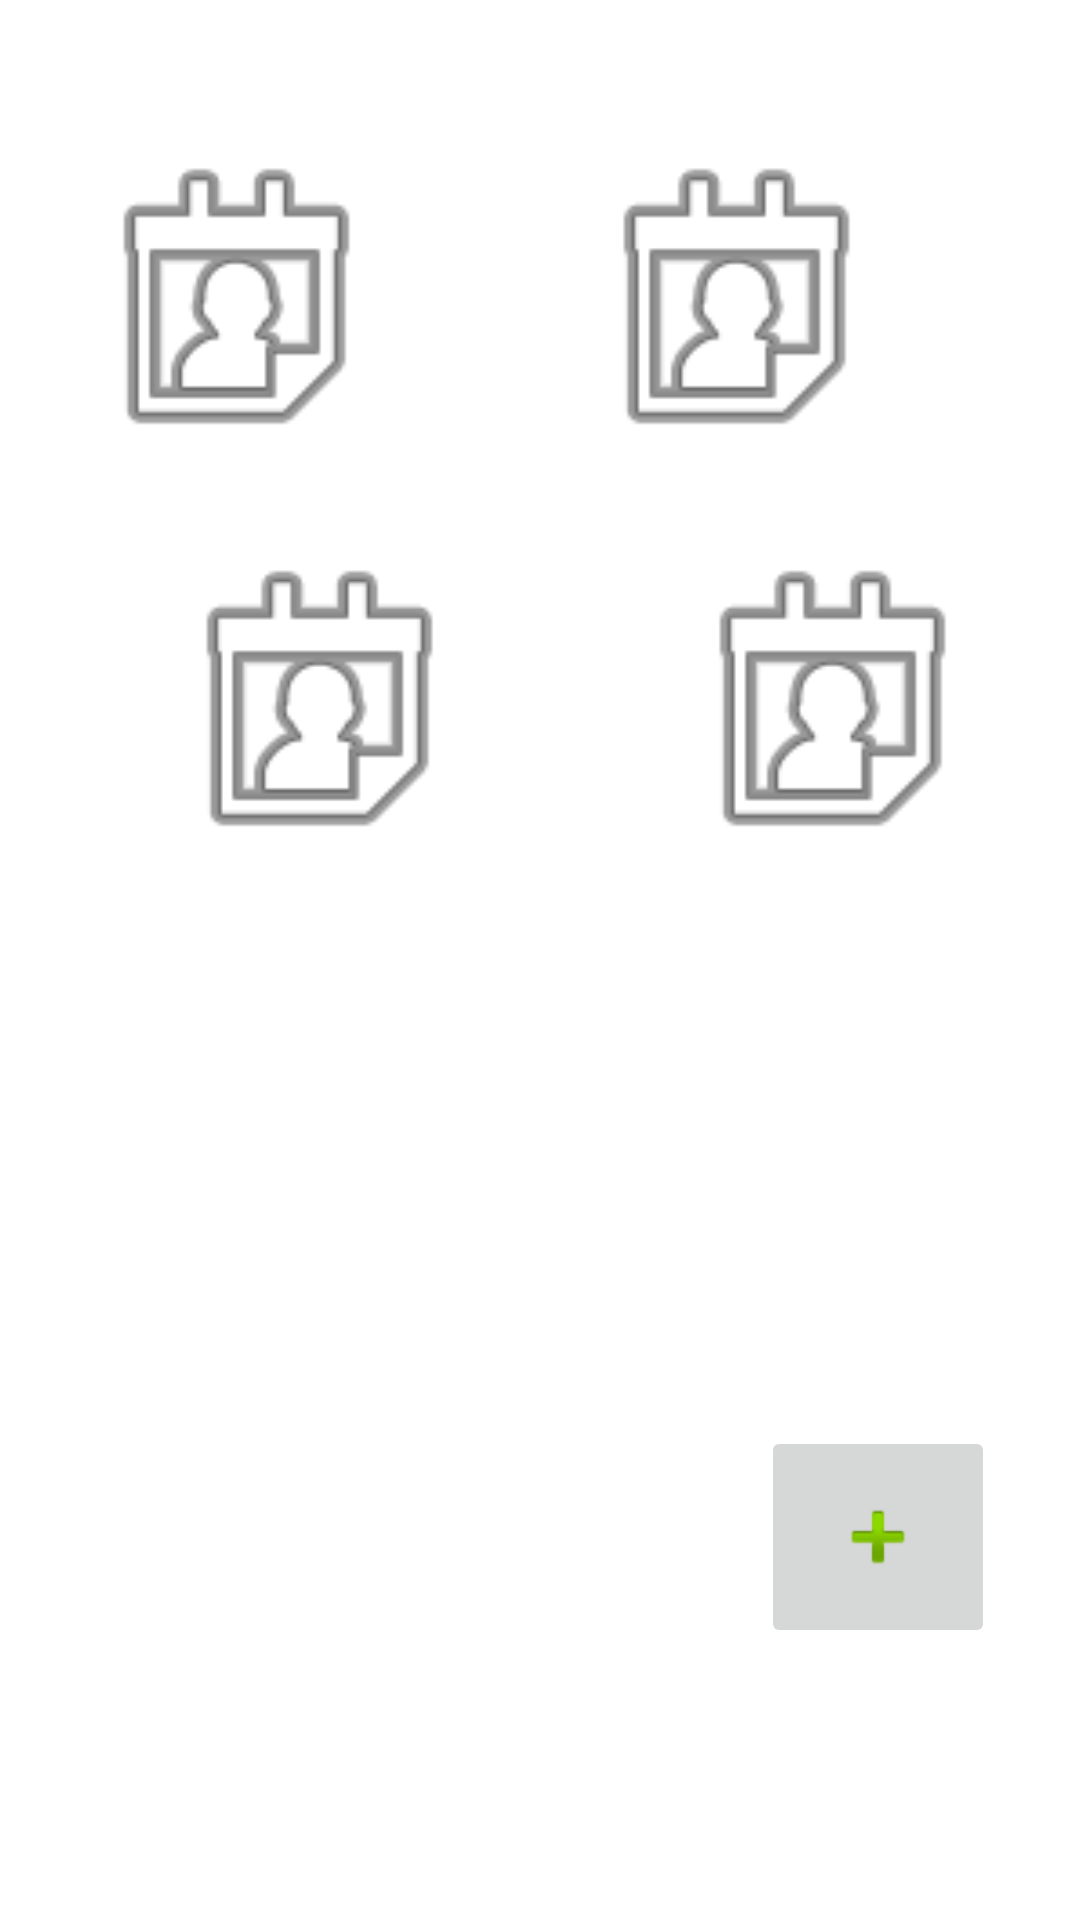

Named icons in this screenshot (1080w x 1920h) and their centers, (x,y):
calendar: (236,296), (736,296), (319,698), (832,698)
